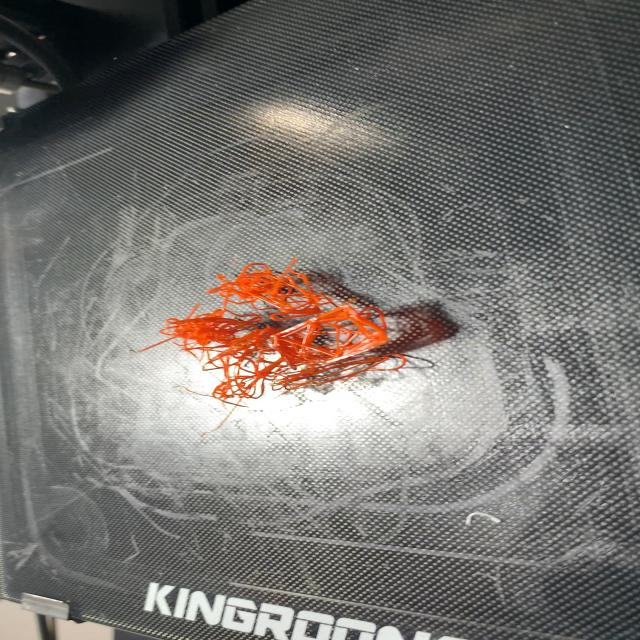spaghetti: (136, 257, 432, 407)
